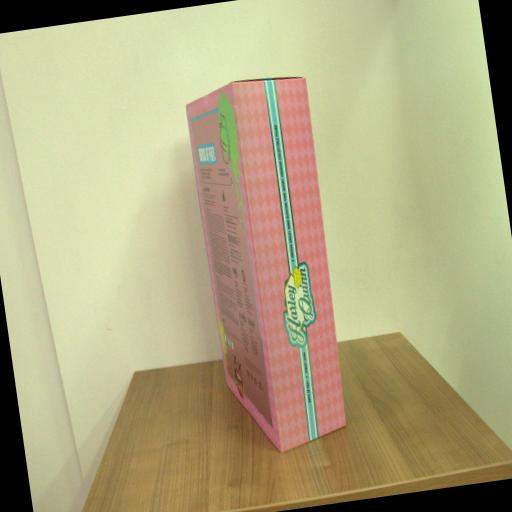Harley: (182, 71, 356, 459)
